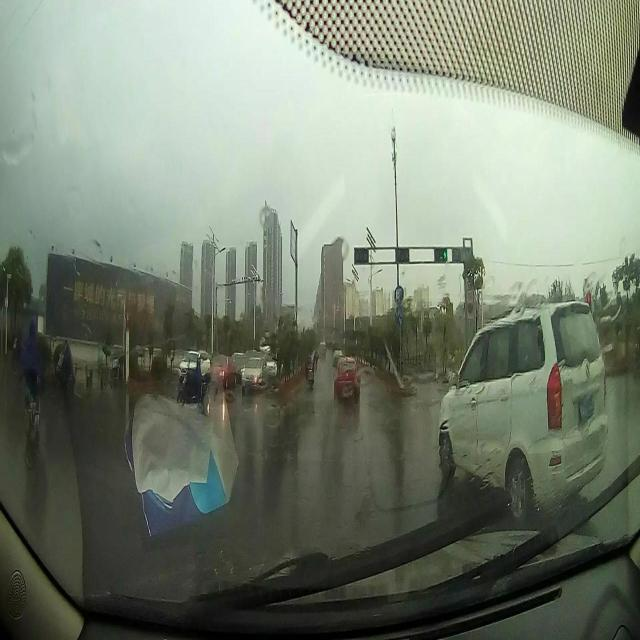car: (438, 300, 606, 524), (332, 356, 362, 404), (177, 346, 210, 384), (208, 352, 238, 392), (240, 354, 268, 394)
